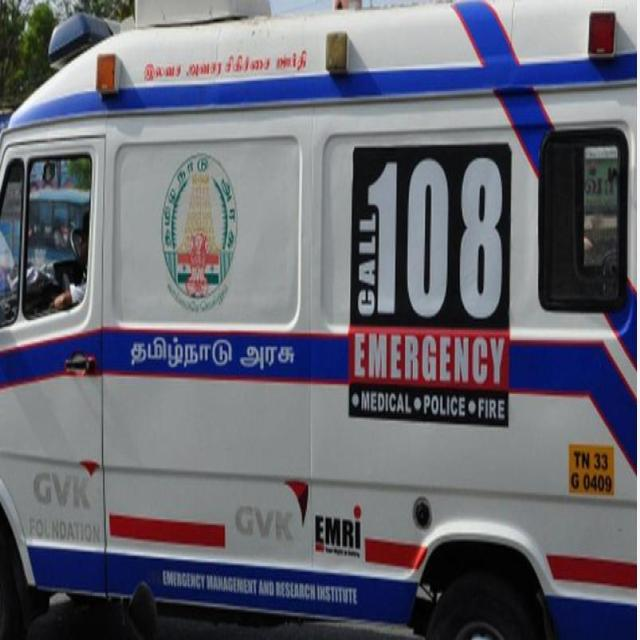ambulance: (28, 58, 640, 639)
